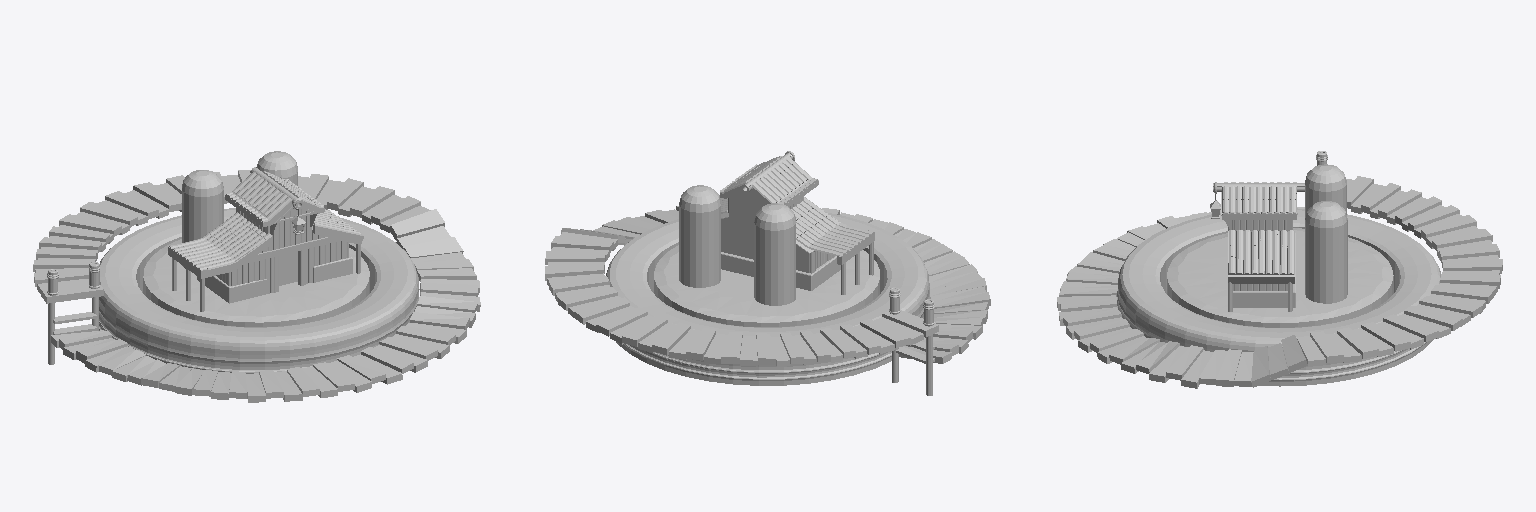
Rendered from Farm_Island.obj.
The picture shows the model from 3 angles: view 1: azimuth 30°, elevation 25°; view 2: azimuth 150°, elevation 25°; view 3: azimuth 270°, elevation 25°; orthographic projection.
Parts seen in each view (by area): view 1: Farm_Island Dock_farm, Farm_Island Ground, Farm_Island Farmhouse_geo, Farm_Island ground, silo_1_2 Farm_Island, Farm_Island ladder, Farm_Island silo_1_1; view 2: Farm_Island Dock_farm, Farm_Island Ground, Farm_Island Farmhouse_geo, Farm_Island ground, Farm_Island silo_1_1, silo_1_2 Farm_Island, Farm_Island ladder; view 3: Farm_Island Dock_farm, Farm_Island Ground, Farm_Island Farmhouse_geo, Farm_Island silo_1_1, Farm_Island ground, silo_1_2 Farm_Island.
Boxes of the visible parts, x1,y1,x2,y2 form: Farm_Island Dock_farm: [33, 170, 480, 402]; Farm_Island Ground: [99, 208, 418, 350]; Farm_Island Farmhouse_geo: [168, 167, 363, 311]; Farm_Island ground: [99, 289, 419, 373]; silo_1_2 Farm_Island: [182, 170, 223, 268]; Farm_Island ladder: [48, 297, 98, 364]; Farm_Island silo_1_1: [256, 151, 297, 185]; Farm_Island Dock_farm: [545, 206, 990, 366]; Farm_Island Ground: [606, 212, 929, 336]; Farm_Island Farmhouse_geo: [719, 151, 874, 294]; Farm_Island ground: [616, 287, 930, 385]; Farm_Island silo_1_1: [679, 185, 720, 287]; silo_1_2 Farm_Island: [754, 203, 795, 305]; Farm_Island ladder: [892, 335, 934, 395]; Farm_Island Dock_farm: [1057, 176, 1502, 388]; Farm_Island Ground: [1118, 208, 1440, 350]; Farm_Island Farmhouse_geo: [1210, 182, 1304, 311]; Farm_Island silo_1_1: [1305, 201, 1347, 303]; Farm_Island ground: [1117, 289, 1433, 386]; silo_1_2 Farm_Island: [1305, 164, 1346, 217].
Size of the model in its own units: 39.61 by 15.39 by 39.64.